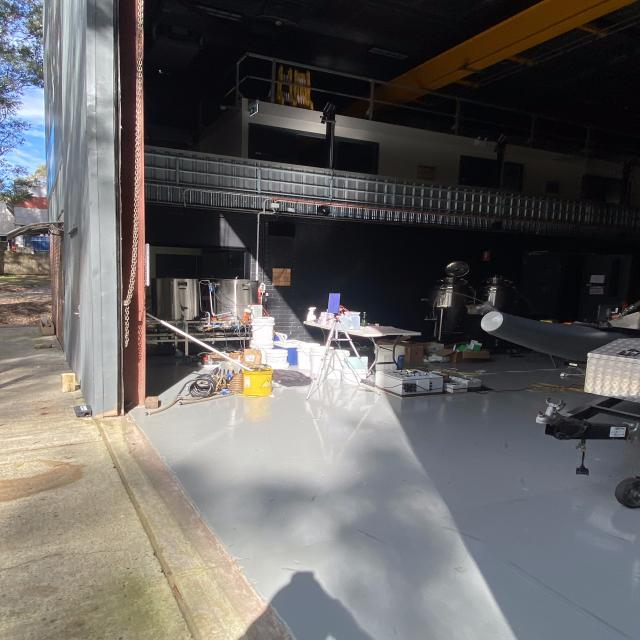matrix: (327, 292, 343, 314)
